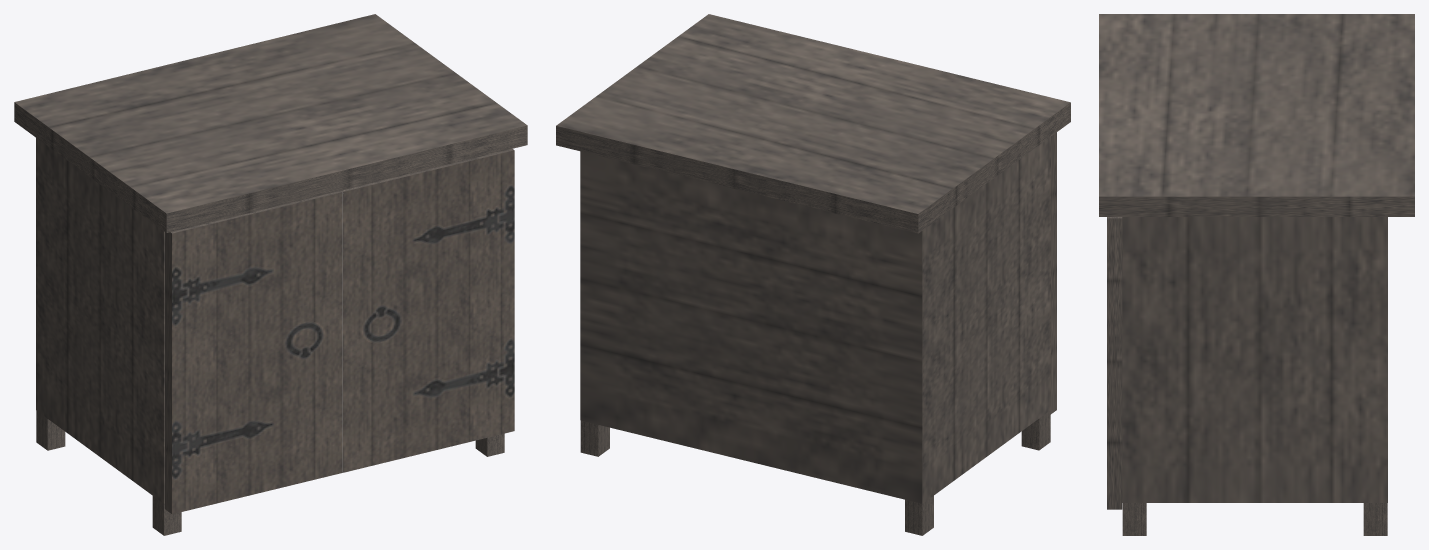
File: CABINETANIMATIONPART2.fbx
3 renders of one model, left to right at view 1: azimuth 30°, elevation 25°; view 2: azimuth 150°, elevation 25°; view 3: azimuth 270°, elevation 25°, orthographic. The views are drawn at different scales.
Parts seen in each view (by area): view 1: CABINET.002, doorcab1, doorcab2; view 2: CABINET.002, doorcab1; view 3: CABINET.002, doorcab2.
Part boxes in pixels (x1,y1,x2,y2): CABINET.002: (14, 14, 527, 535); doorcab1: (165, 190, 343, 514); doorcab2: (342, 149, 514, 472); CABINET.002: (556, 14, 1070, 535); doorcab1: (1050, 132, 1056, 414); CABINET.002: (1099, 14, 1414, 535); doorcab2: (1107, 217, 1122, 509).
Size of the model in its own units: 353 by 311 by 258.
Materials: 2 (2 with a texture image).
